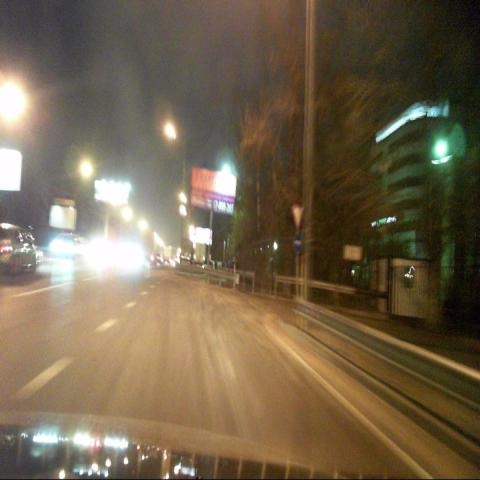2_4: (290, 204, 304, 229)
4_1_2_1: (293, 231, 302, 253)
